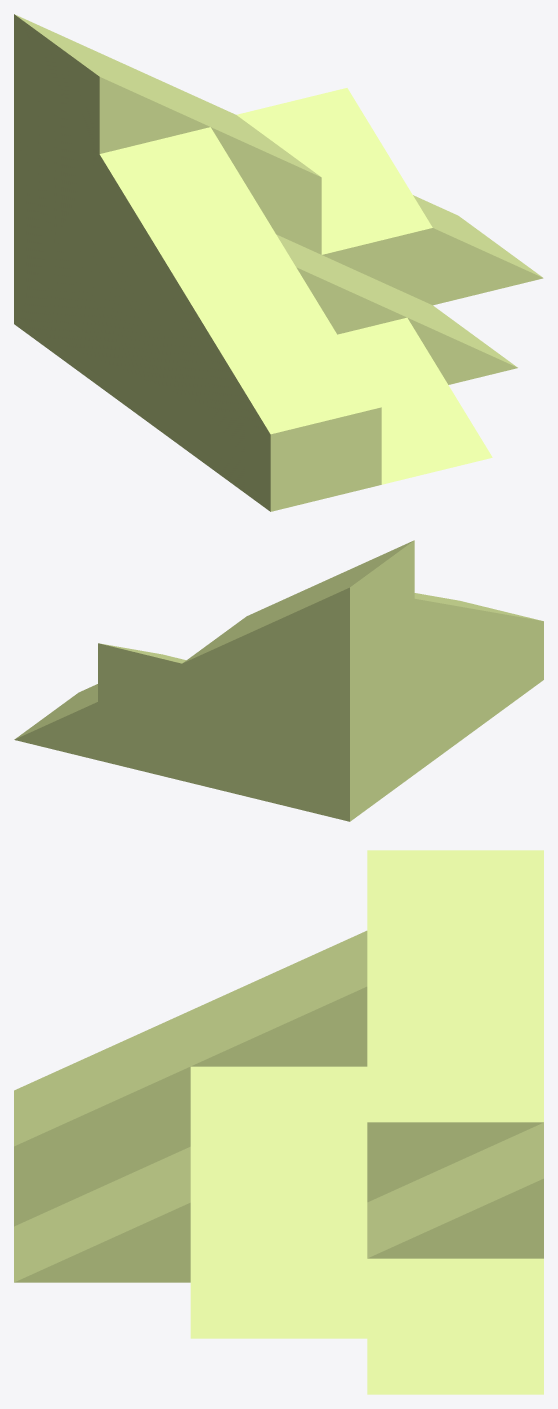
The model's file is PecaH.glb.
The picture shows the model from 3 angles, top to bottom: view 1: azimuth 30°, elevation 25°; view 2: azimuth 150°, elevation 25°; view 3: azimuth 270°, elevation 25°; orthographic projection. The views are drawn at different scales.
Visible parts, largest first — view 1: Sólido1; view 2: Sólido1; view 3: Sólido1.
Part boxes in pixels (x1,y1,x2,y2): Sólido1: [14, 14, 543, 511]; Sólido1: [14, 540, 543, 821]; Sólido1: [14, 850, 543, 1394].
Size of the model in its own units: 0.06 by 0.04 by 0.06.
